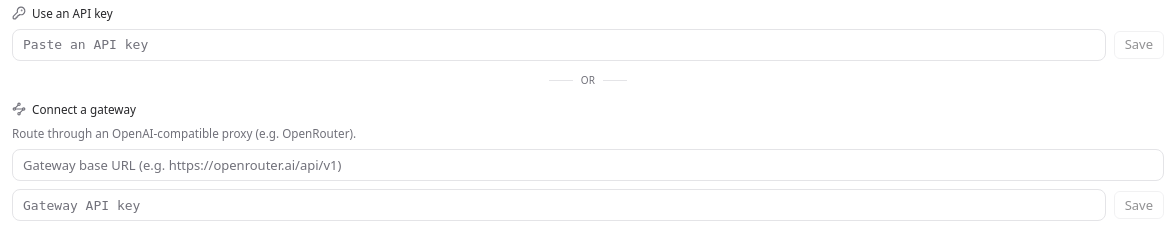
Test case: HarnessCredentialForm › keeps a light, non-error disabled Save until input is entered
Check: the button with test id "harness-credential-save" is disabled, box [1114,31,1164,59]
Type "sk-x" into the password field with test id "harness-credential-key" at (559, 45), box [12,29,1106,61]
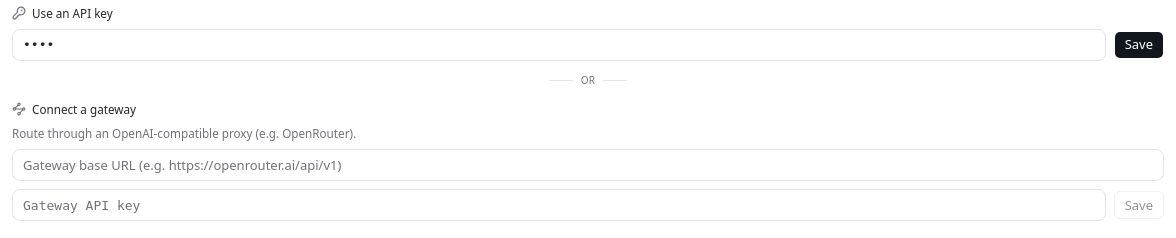
Check: the button with test id "harness-credential-save" is enabled, box [1114,31,1164,59]
